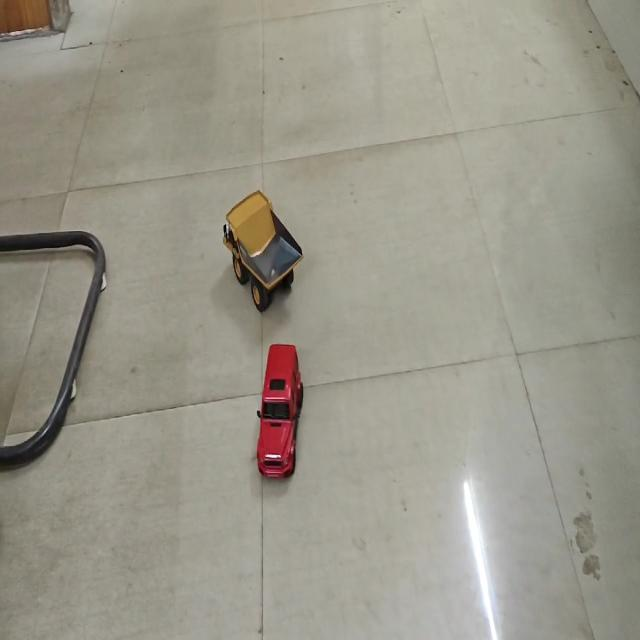dump_truck: (222, 188, 304, 309)
light_vehicle: (254, 338, 301, 476)
